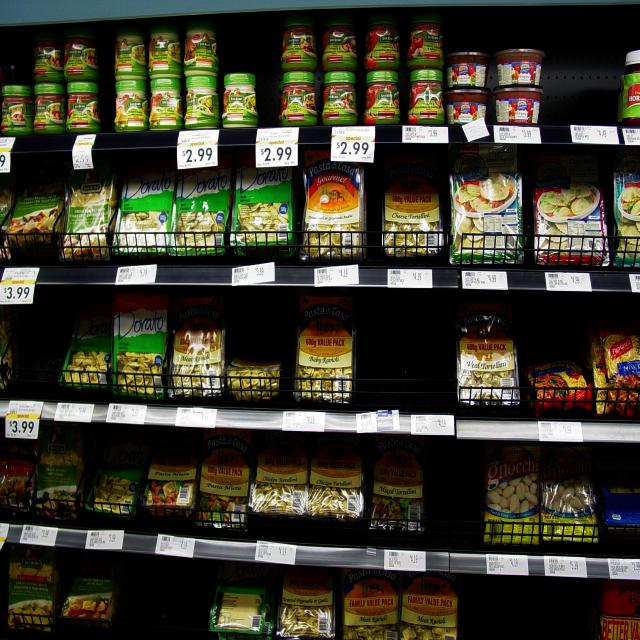empty_space: (362, 291, 454, 409), (467, 577, 579, 639), (126, 553, 210, 631), (425, 441, 480, 544), (548, 47, 616, 121), (12, 311, 60, 381), (524, 294, 565, 354)
